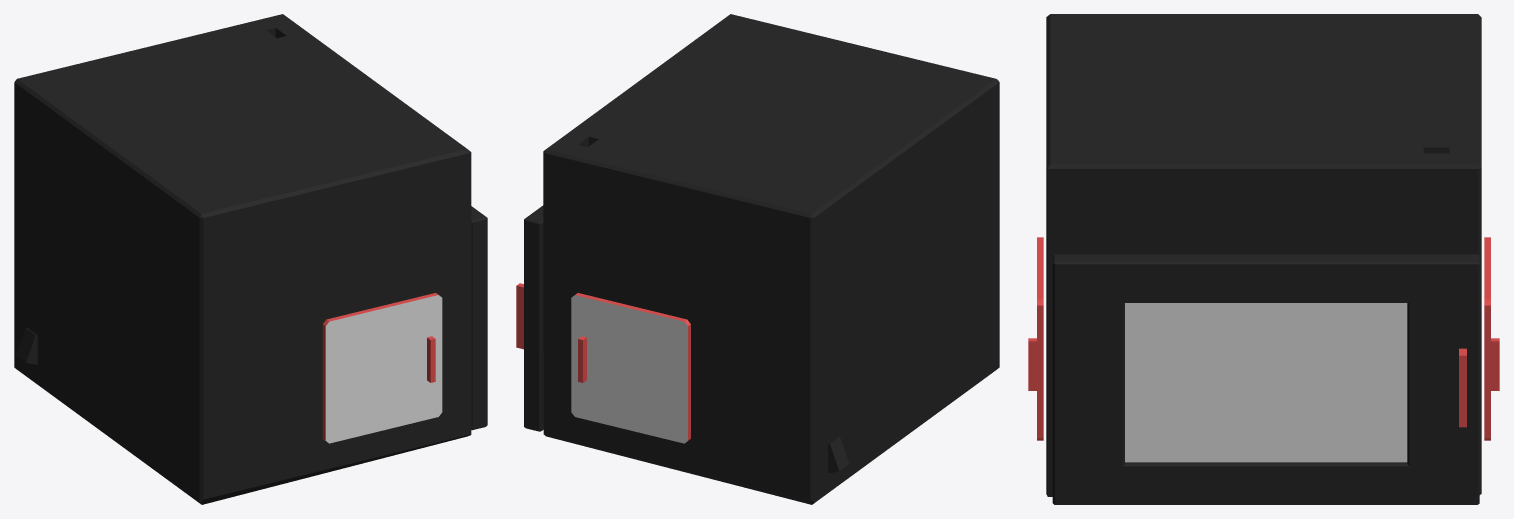
The model's file is Imprimante3D.fbx.
The picture shows the model from 3 angles, left to right: view 1: azimuth 30°, elevation 25°; view 2: azimuth 150°, elevation 25°; view 3: azimuth 270°, elevation 25°; orthographic projection. The views are drawn at different scales.
Parts seen in each view (by area): view 1: Imprimante, PorteR, PorteFront, Interrupteur; view 2: Imprimante, PorteD, PorteFront, Interrupteur; view 3: Imprimante, PorteFront, PorteD, PorteR.
Boxes of the visible parts, x1,y1,x2,y2 form: Imprimante: (14,14,471,504); PorteR: (322,293,442,443); PorteFront: (471,206,487,430); Interrupteur: (16,328,37,364); Imprimante: (543,14,999,504); PorteD: (571,293,690,443); PorteFront: (516,205,543,431); Interrupteur: (828,436,849,473); Imprimante: (1046,14,1481,496); PorteFront: (1052,254,1479,504); PorteD: (1484,237,1499,440); PorteR: (1028,237,1043,440).
Bounding box in the file's own units: 57.98 × 51.25 × 64.95.
